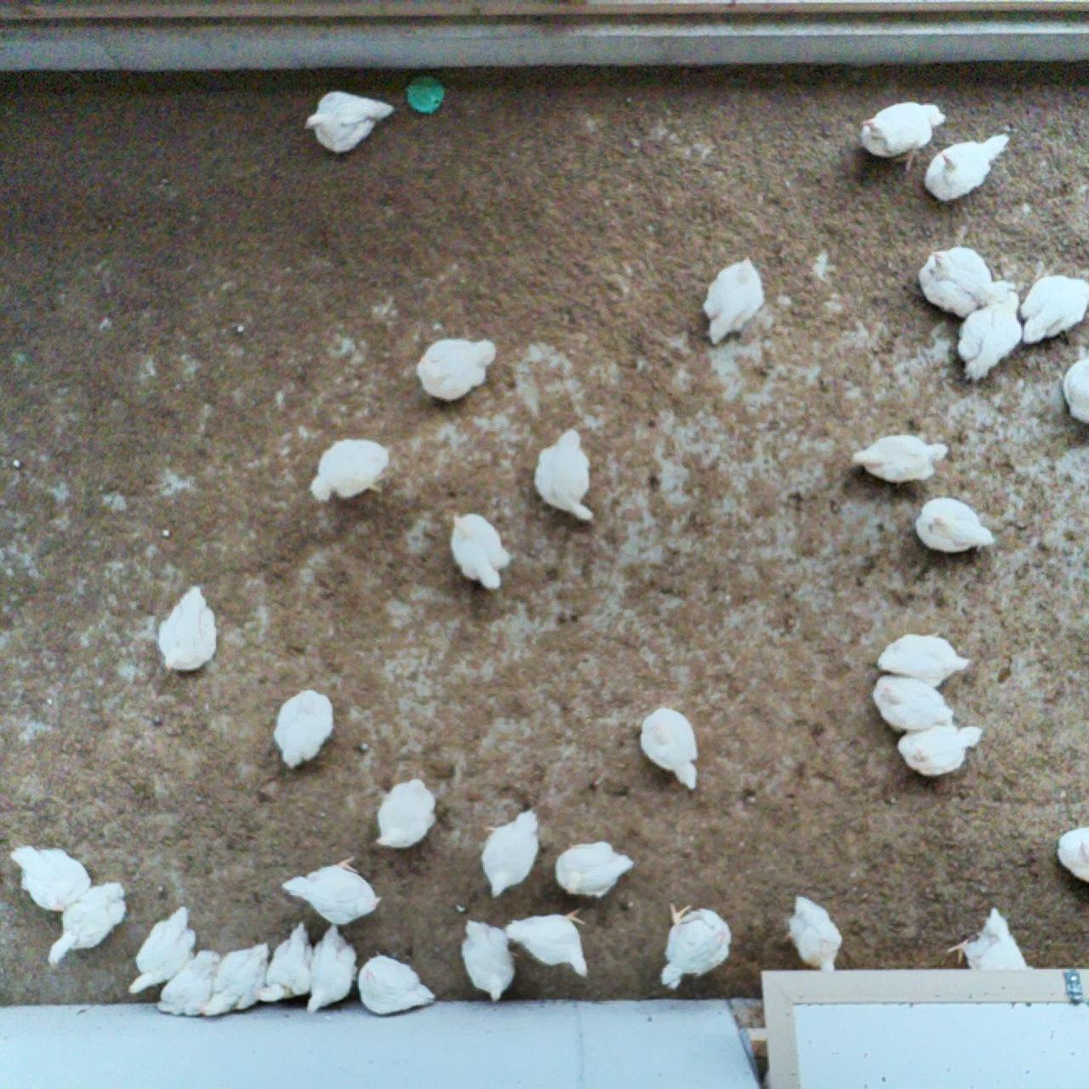chicken: (280, 853, 391, 929), (44, 879, 128, 975), (657, 899, 734, 993), (504, 902, 594, 981), (124, 903, 198, 998), (855, 99, 949, 173), (531, 424, 600, 524), (921, 132, 1014, 206), (956, 288, 1024, 388), (301, 87, 398, 157), (154, 581, 223, 677), (5, 841, 95, 914), (306, 436, 397, 507), (480, 807, 547, 902), (702, 252, 768, 348), (414, 335, 502, 405), (914, 244, 996, 319), (636, 705, 702, 794), (946, 905, 1035, 971), (850, 432, 951, 490), (302, 922, 363, 1018), (199, 939, 272, 1019), (271, 685, 338, 772), (1015, 272, 1089, 349), (457, 916, 520, 1006), (447, 508, 514, 591), (355, 949, 438, 1016), (253, 920, 316, 1008), (877, 629, 969, 688), (871, 671, 958, 733), (553, 839, 636, 902), (914, 495, 998, 557), (892, 724, 984, 780), (780, 892, 844, 972), (153, 945, 222, 1018), (374, 776, 440, 852), (1058, 354, 1089, 425), (1054, 824, 1089, 885)
